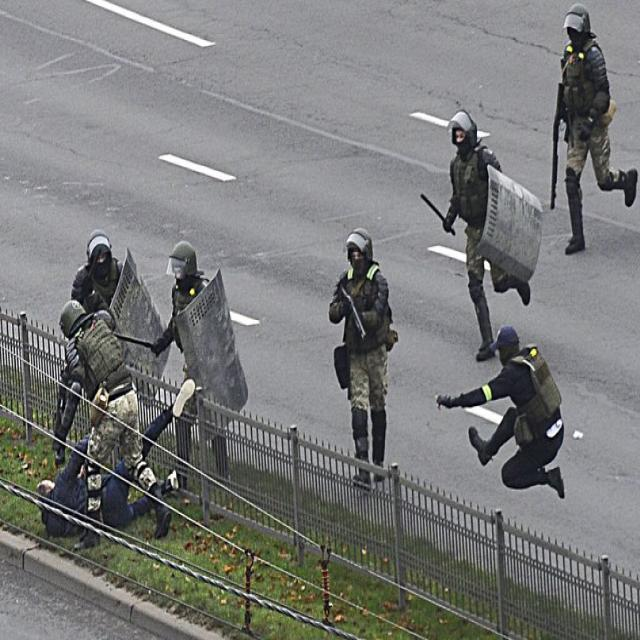police: (414, 99, 552, 384), (429, 302, 574, 547), (56, 264, 170, 550), (300, 209, 410, 495), (539, 0, 640, 295), (147, 214, 241, 490), (51, 193, 168, 400)
